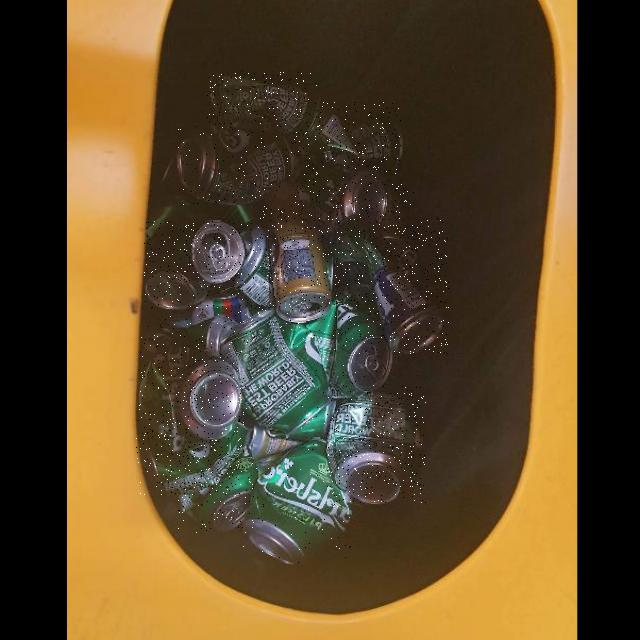metal: (333, 217, 449, 354), (243, 438, 353, 563), (221, 310, 330, 431), (328, 386, 426, 504), (138, 346, 242, 452), (261, 179, 332, 324), (137, 411, 253, 496), (176, 125, 293, 204), (307, 299, 395, 398), (294, 102, 401, 174), (208, 72, 317, 141), (177, 445, 259, 532), (144, 221, 243, 281), (323, 169, 394, 239), (142, 315, 238, 356), (231, 223, 275, 309), (192, 279, 261, 324), (382, 182, 414, 279), (245, 411, 302, 459), (145, 273, 212, 309)
